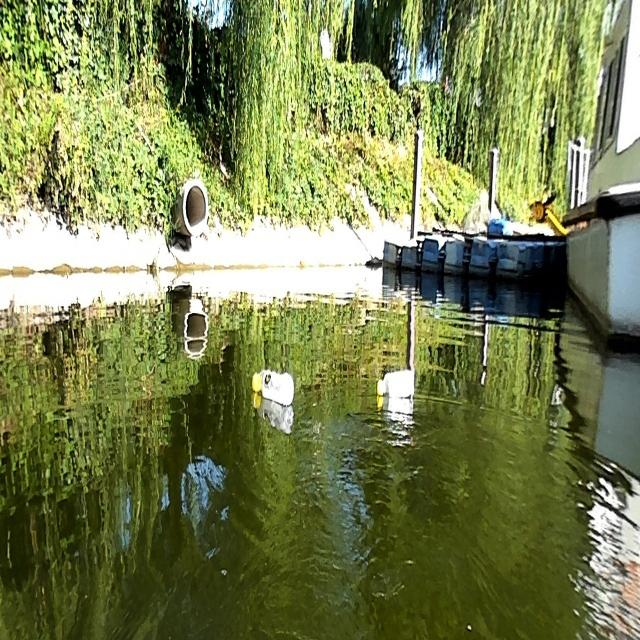bottle: (251, 367, 294, 405), (376, 368, 414, 398)
